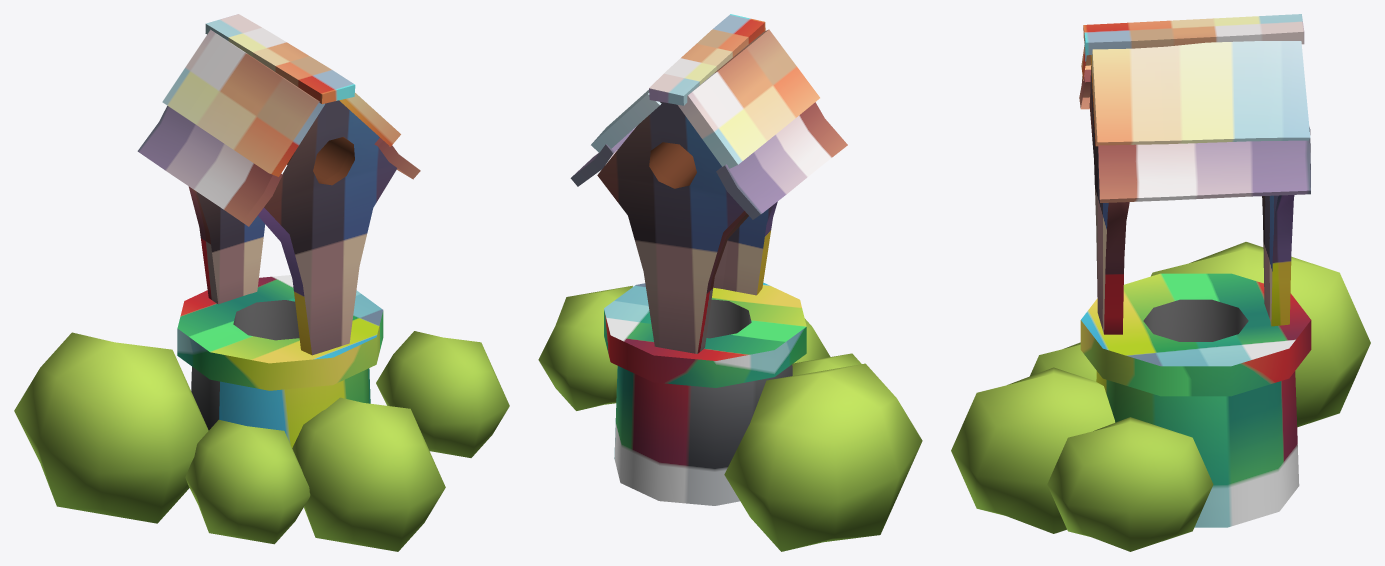
Rendered from well.fbx.
The picture shows the model from 3 angles, left to right: view 1: azimuth 30°, elevation 25°; view 2: azimuth 150°, elevation 25°; view 3: azimuth 270°, elevation 25°; orthographic projection. The views are drawn at different scales.
Visible parts, largest first — view 1: well; view 2: well; view 3: well.
Part boxes in pixels (box(x1,y1,x2,y2)): well: box(14, 14, 509, 551); well: box(538, 14, 922, 551); well: box(951, 14, 1370, 551).
Size of the model in its own units: 27.16 by 28.82 by 22.35.
Materials: 1 (1 with a texture image).
